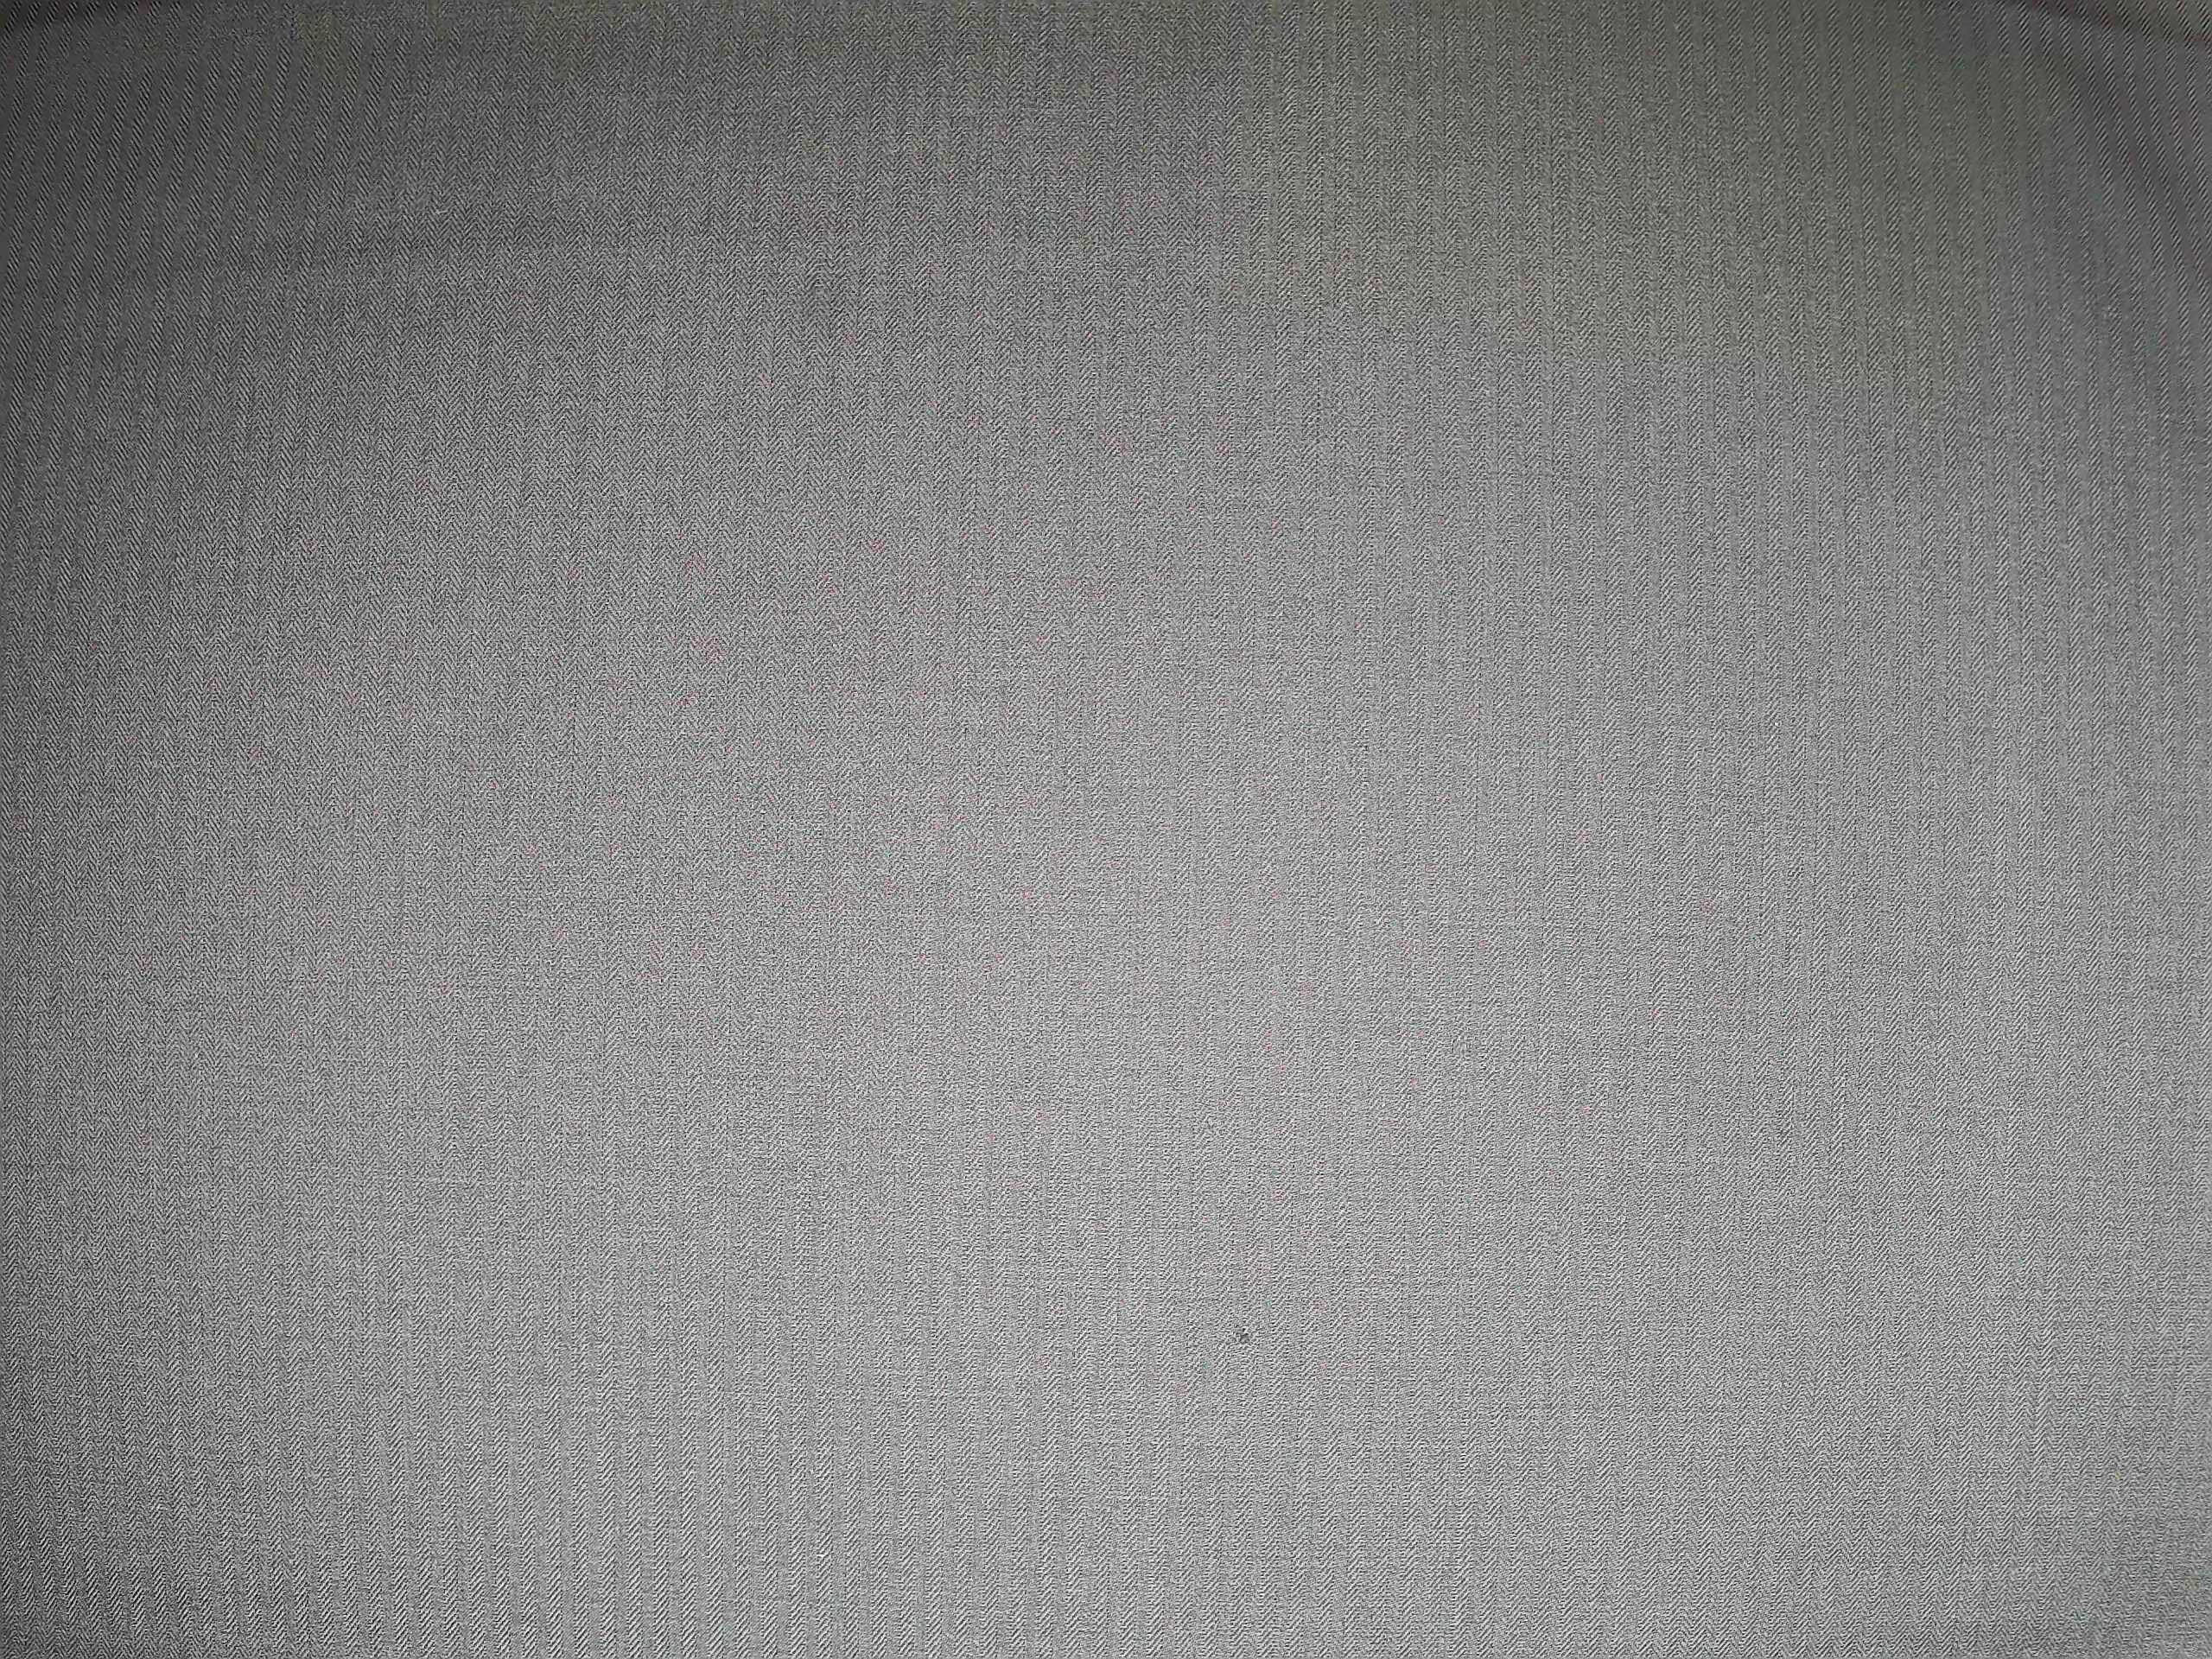rubbing-hole: (1216, 1309, 1266, 1363)
